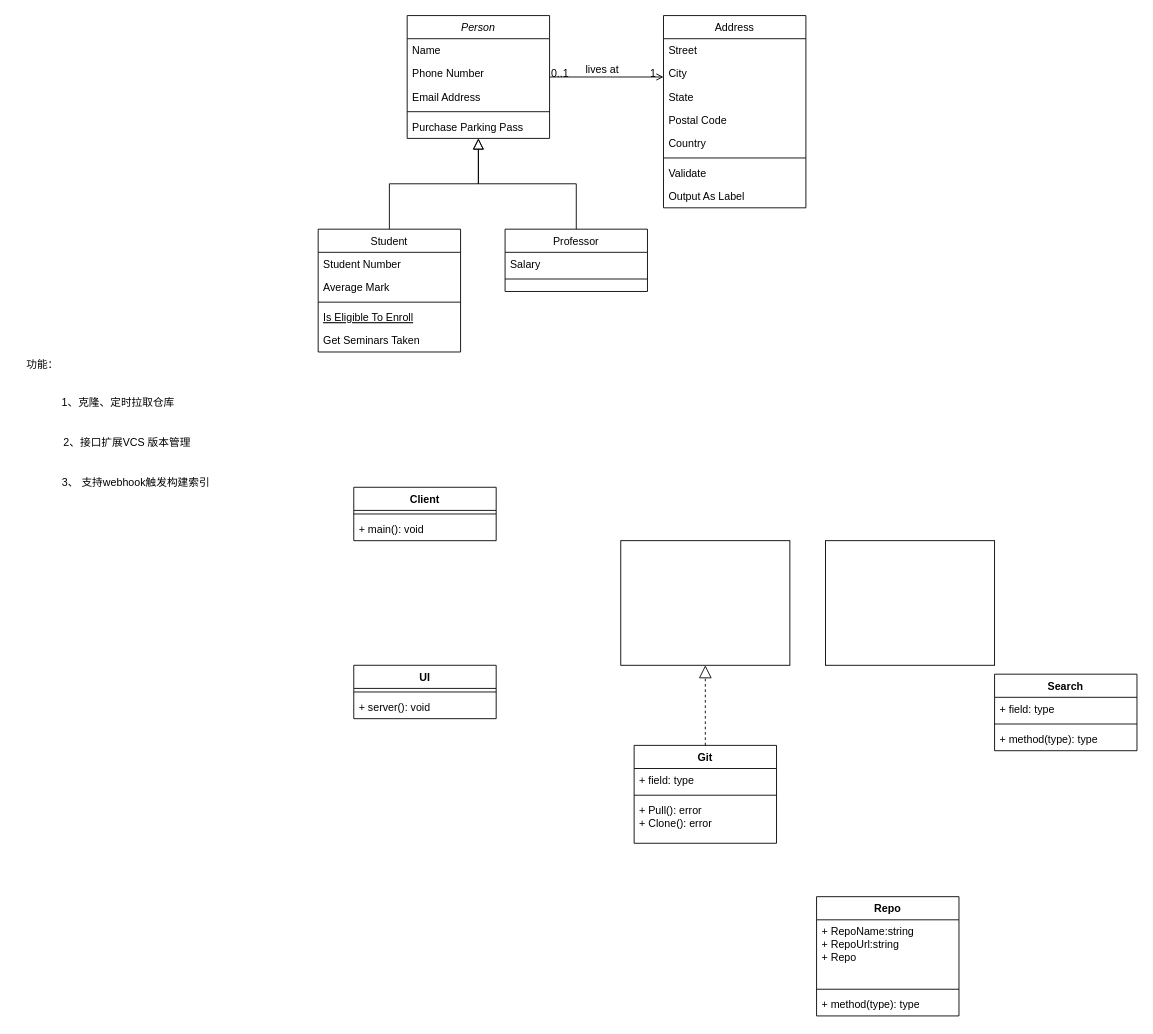
This 1153x1034 diagram has some shape labels left out. The shapes that lost their labels are listed below. From the top down, each one's centre as x and y in pixels, then its label:
At [705,602]: "<<Interface>> Driver + Pull(): error + Clone(): error".
At [910,602]: "<<Interface>> + Pull(): error + Clone(): error".
